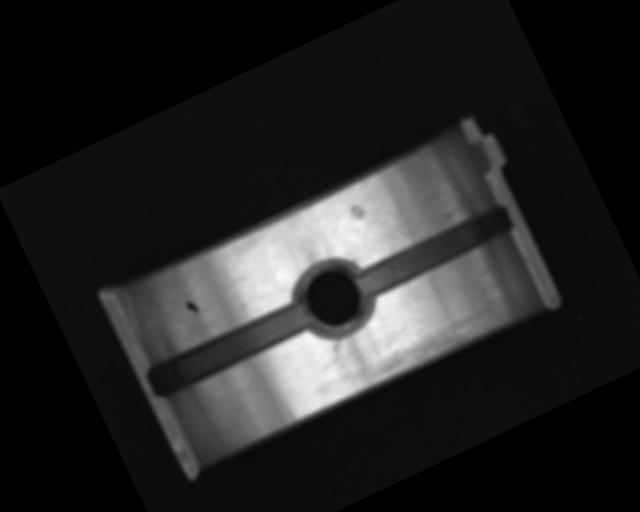blot: (183, 298, 200, 316)
bruise: (346, 200, 369, 223)
gap: (142, 295, 317, 402), (353, 200, 517, 301)
hole: (287, 249, 383, 348)
nick: (326, 336, 349, 363)
scratch: (362, 298, 511, 390)
